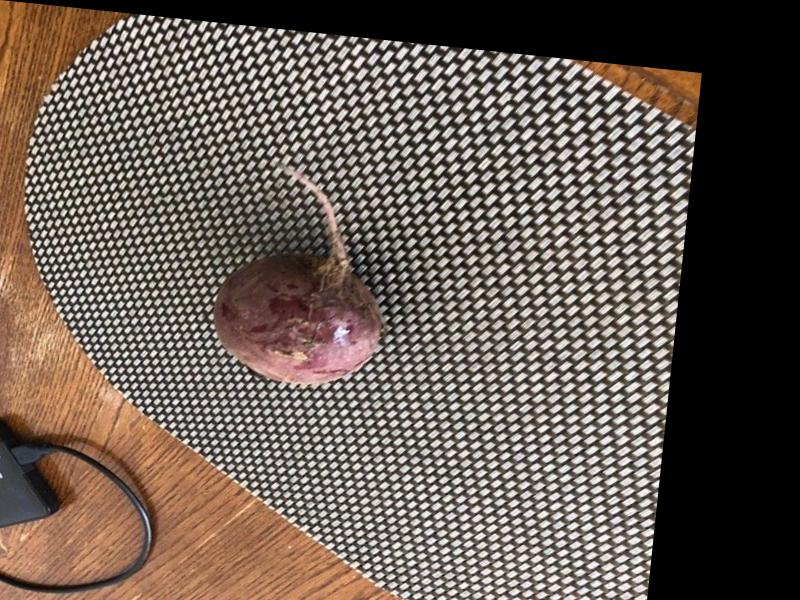Beet: (208, 157, 397, 391)
